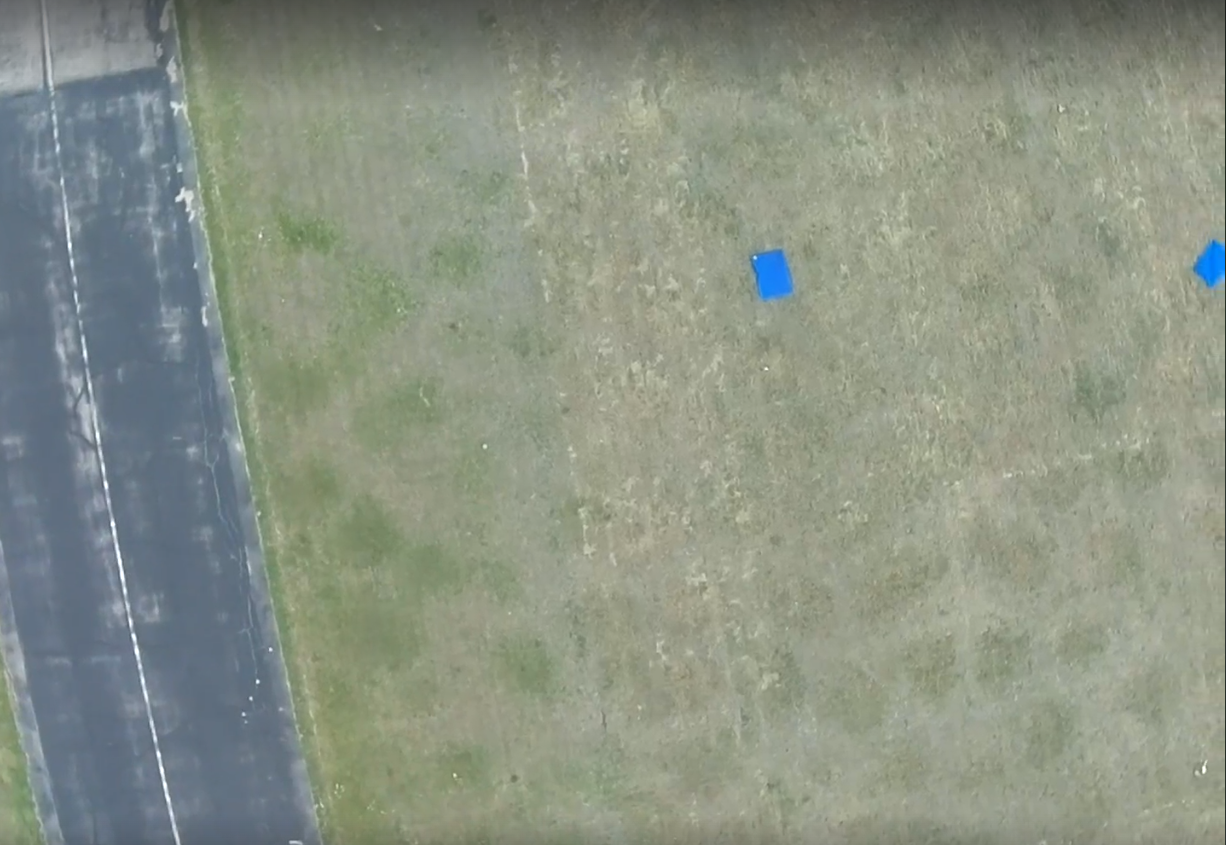TOI: (747, 248, 796, 299), (1191, 239, 1226, 285)
